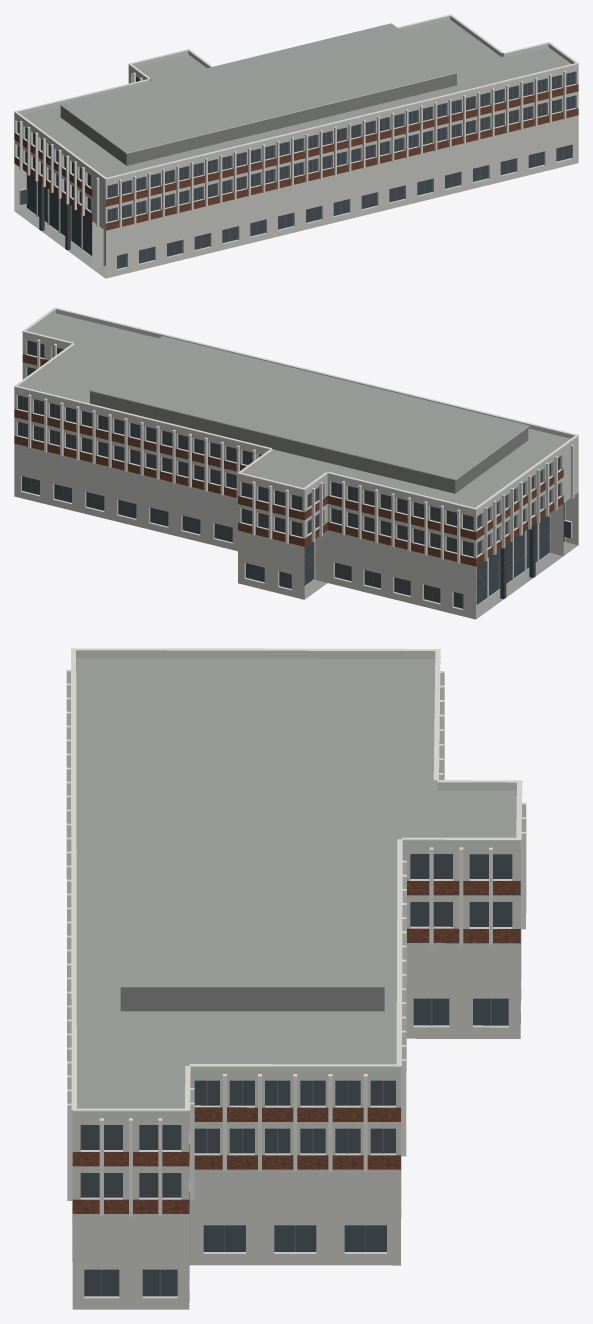
3 views of the same model, one above another, from view 1: azimuth 30°, elevation 25°; view 2: azimuth 150°, elevation 25°; view 3: azimuth 270°, elevation 25° (orthographic). The views are drawn at different scales.
Parts seen in each view (by area): view 1: studentUnion__roof, studentUnion__wall, studentUnion__glass, studentUnion__trim, studentUnion__wall2, studentUnion__roofMetal, studentUnion__parapet, studentUnion__frame, studentUnion__column; view 2: studentUnion__roof, studentUnion__wall, studentUnion__glass, studentUnion__trim, studentUnion__wall2, studentUnion__roofMetal, studentUnion__parapet, studentUnion__frame, studentUnion__column; view 3: studentUnion__roof, studentUnion__wall, studentUnion__glass, studentUnion__trim, studentUnion__wall2, studentUnion__parapet, studentUnion__roofMetal, studentUnion__frame.
Boxes of the visible parts, bbox=[...] form: studentUnion__roof: bbox=[14, 19, 570, 278]; studentUnion__wall: bbox=[14, 67, 578, 278]; studentUnion__glass: bbox=[17, 71, 575, 268]; studentUnion__trim: bbox=[14, 14, 578, 228]; studentUnion__wall2: bbox=[14, 84, 578, 230]; studentUnion__roofMetal: bbox=[60, 73, 456, 165]; studentUnion__parapet: bbox=[14, 15, 578, 182]; studentUnion__frame: bbox=[27, 72, 570, 268]; studentUnion__column: bbox=[39, 182, 70, 250]; studentUnion__roof: bbox=[22, 313, 577, 619]; studentUnion__wall: bbox=[14, 335, 578, 619]; studentUnion__glass: bbox=[18, 340, 570, 608]; studentUnion__trim: bbox=[14, 307, 578, 563]; studentUnion__wall2: bbox=[14, 354, 563, 566]; studentUnion__roofMetal: bbox=[90, 391, 528, 493]; studentUnion__parapet: bbox=[14, 309, 578, 513]; studentUnion__frame: bbox=[23, 343, 564, 608]; studentUnion__column: bbox=[500, 524, 535, 598]; studentUnion__roof: bbox=[76, 658, 516, 1108]; studentUnion__wall: bbox=[72, 847, 521, 1309]; studentUnion__glass: bbox=[80, 854, 512, 1296]; studentUnion__trim: bbox=[66, 648, 526, 1216]; studentUnion__wall2: bbox=[72, 881, 520, 1213]; studentUnion__parapet: bbox=[72, 650, 520, 1118]; studentUnion__roofMetal: bbox=[120, 987, 384, 1011]; studentUnion__frame: bbox=[101, 998, 491, 1296].
Size of the model in its own units: 75.19 by 16.4 by 31.34.
10 materials, 1 textured.
